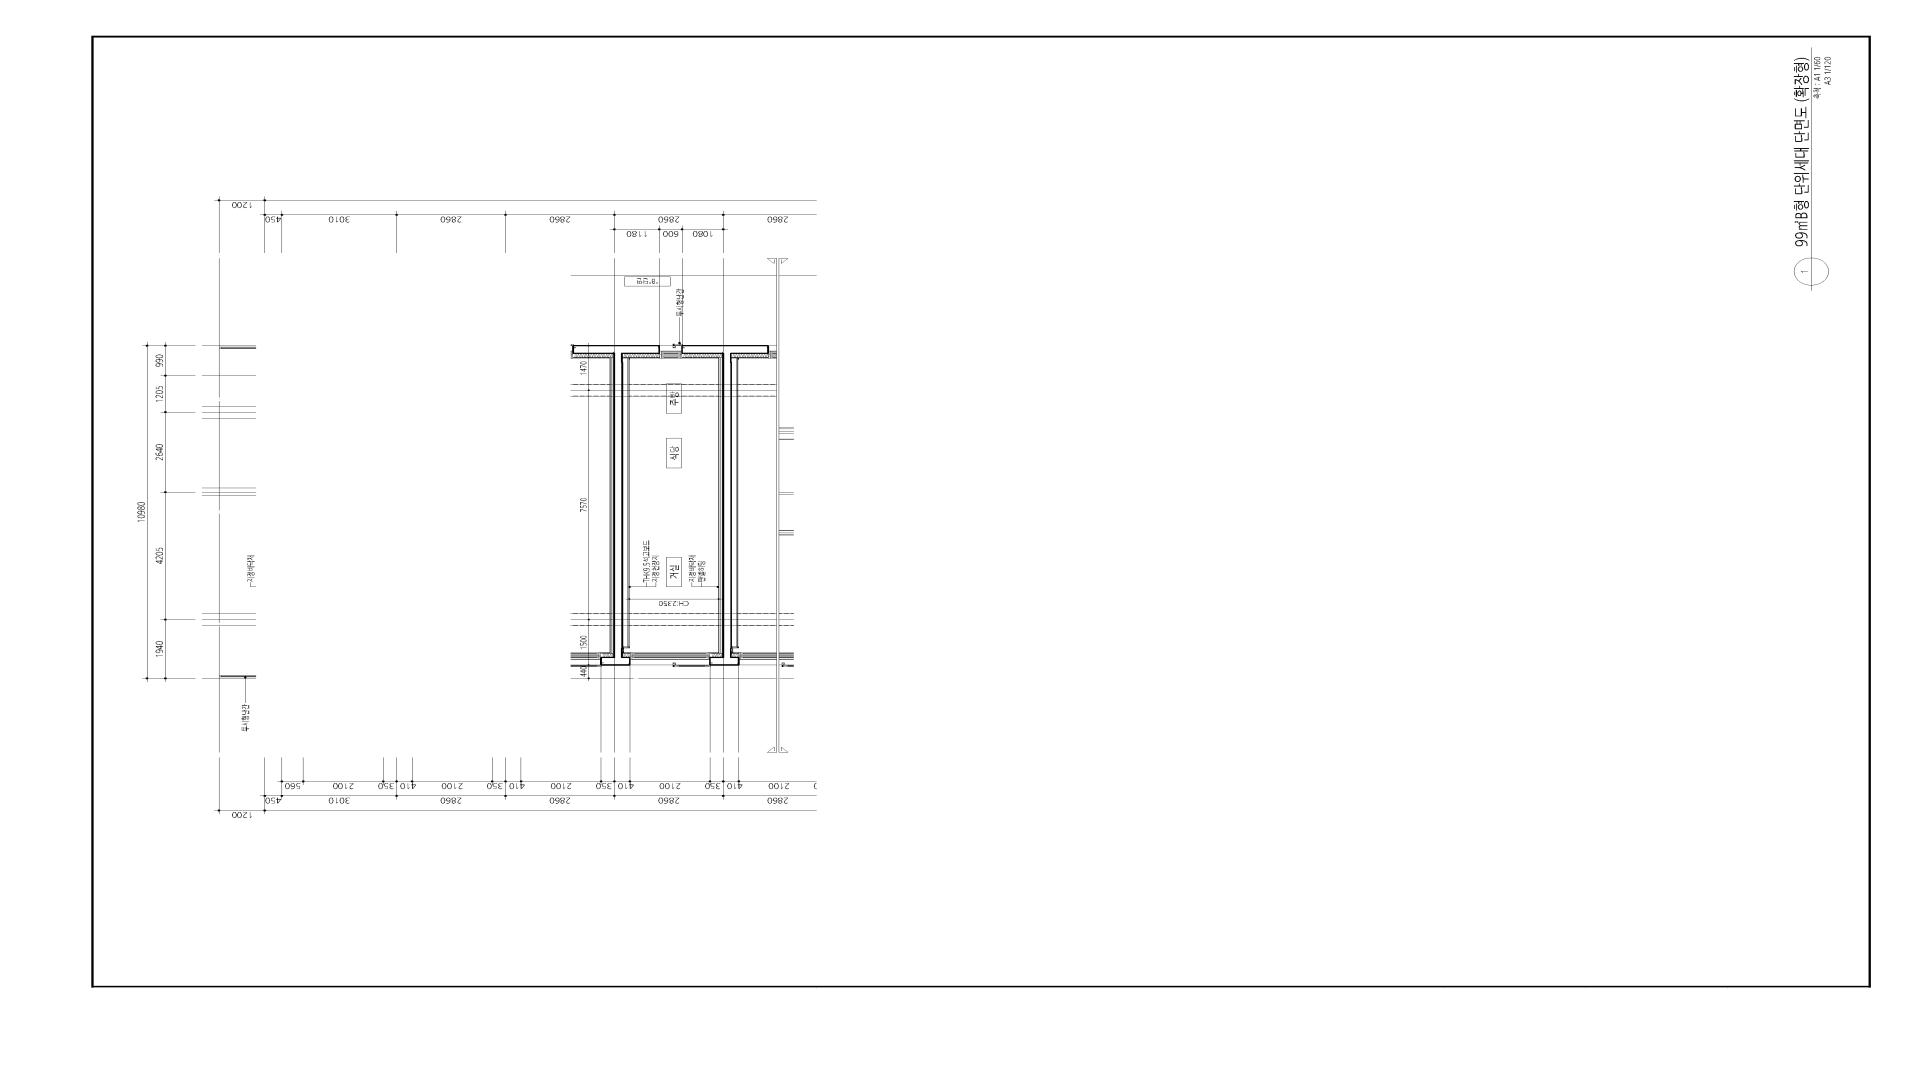wall: (682, 345, 740, 666), (613, 345, 661, 666)
window: (630, 653, 711, 667), (659, 344, 683, 359)
